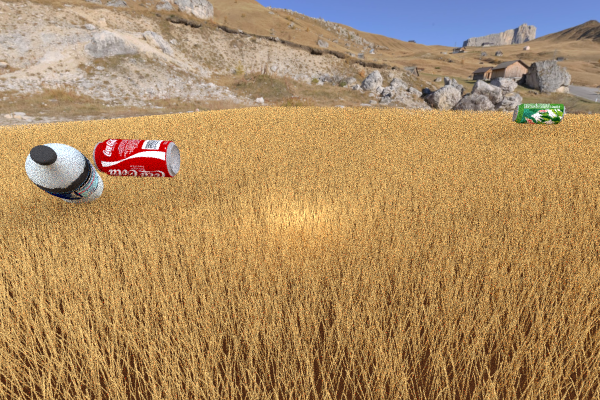bottle: (25, 143, 103, 204)
can: (92, 138, 180, 177), (512, 103, 565, 124)
